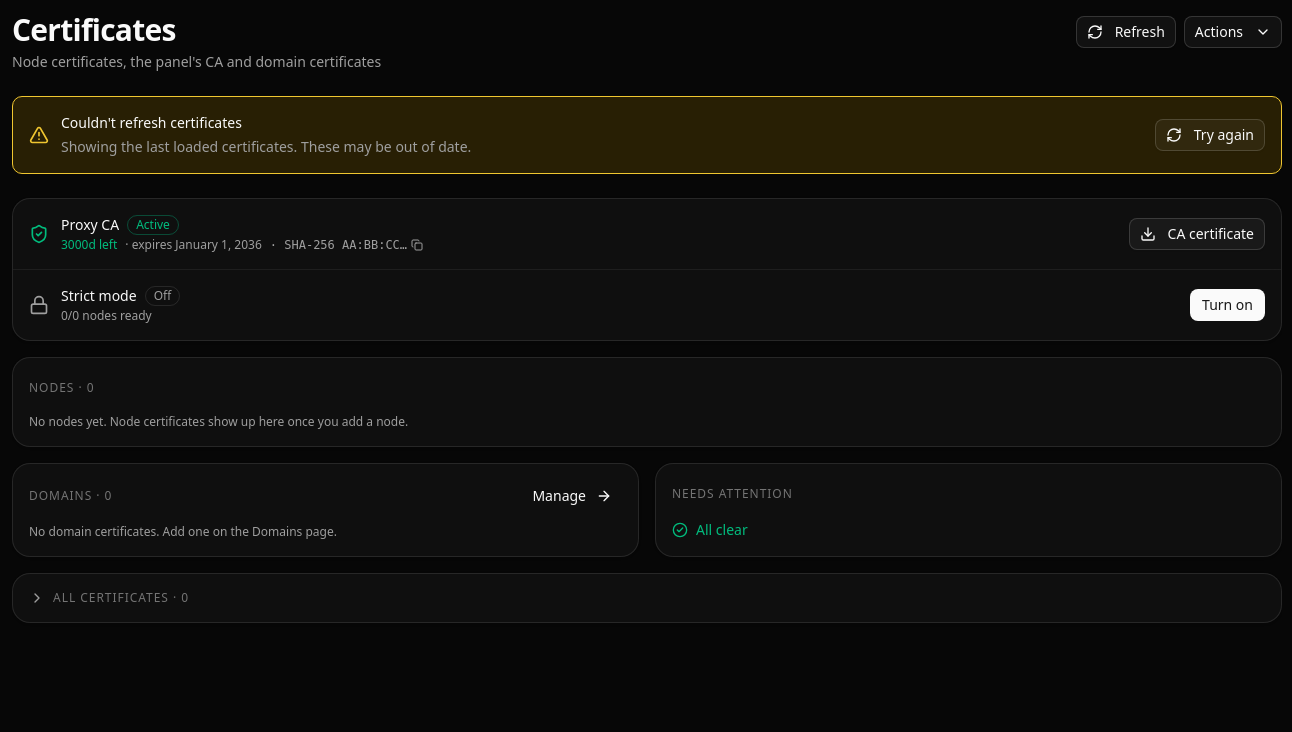
Test: certificate query recovery › keeps the last certificates and CA status on a failed refresh
The image size is (1292, 732).
Expected: the message shows "These may be out of date", [61,137,471,156]
Expected: the text "Proxy CA" is shown, [61,215,119,235]
Click the button "Try again".
click(1210, 135)  # box [1155,119,1265,151]
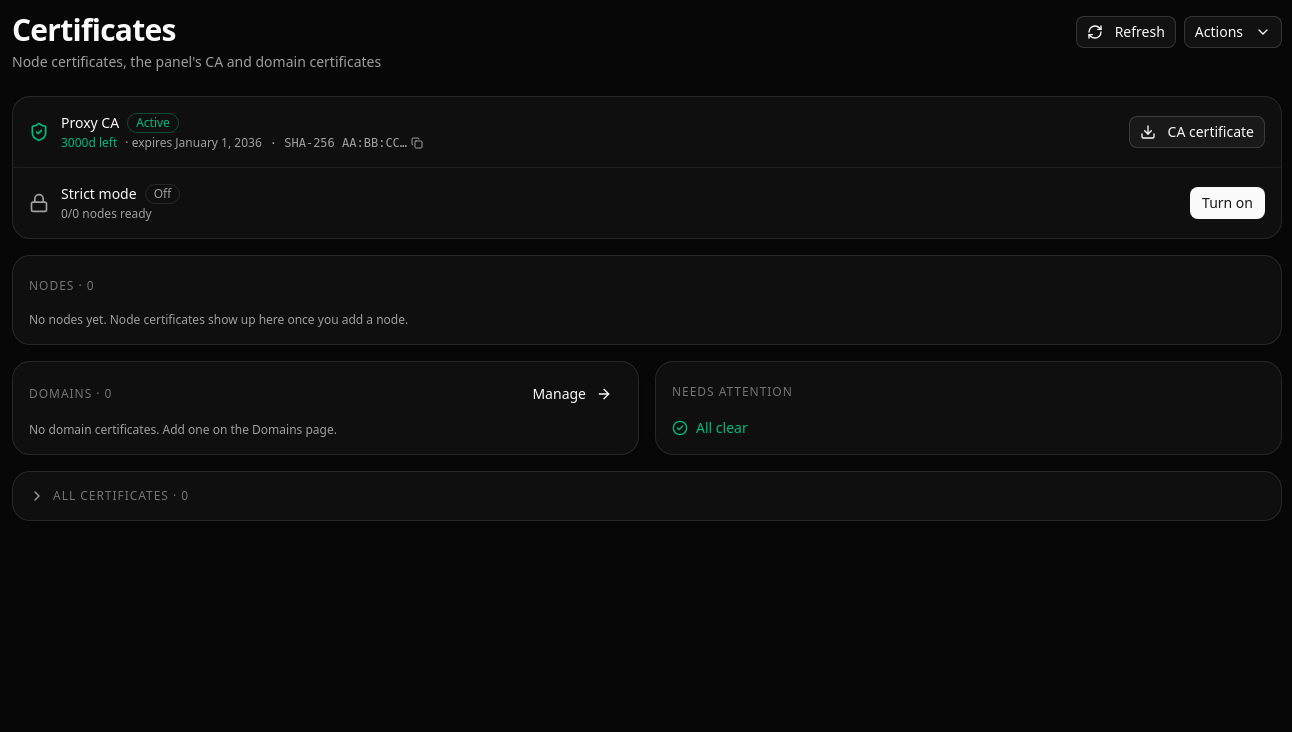
Expected: the message is gone
